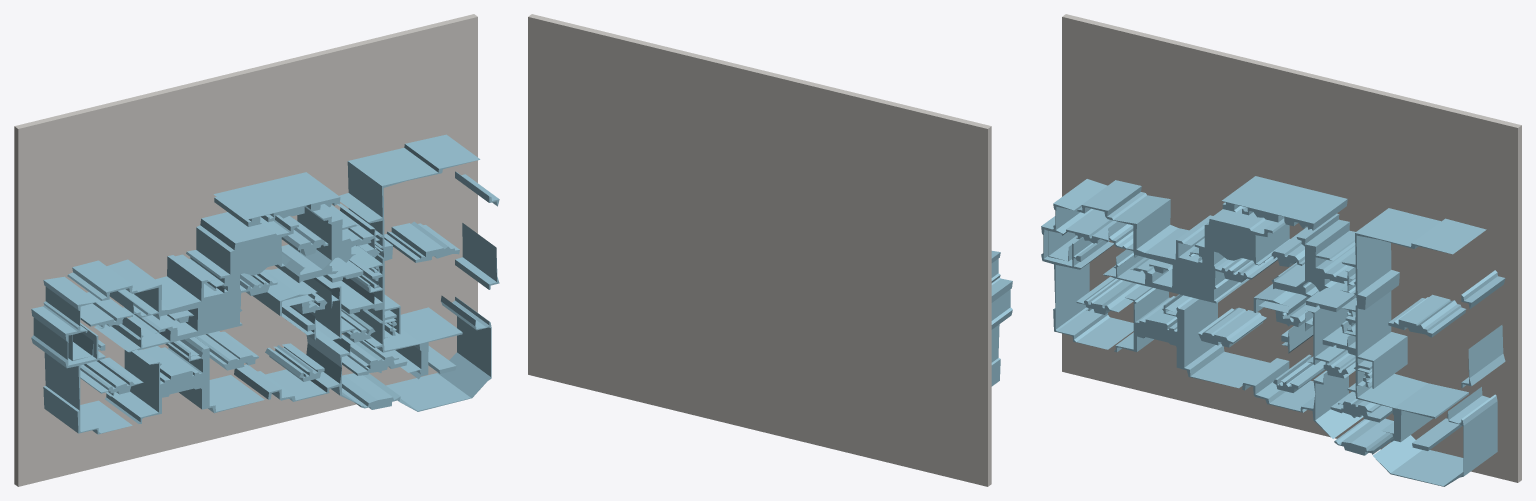
3 views of the same model, side by side, from view 1: azimuth 30°, elevation 25°; view 2: azimuth 150°, elevation 25°; view 3: azimuth 330°, elevation 25° (orthographic).
Parts seen in each view (by area): view 1: world; view 2: world; view 3: world.
Part boxes in pixels (left/top/right/bottom): world: left=14, top=14, right=499, bottom=486; world: left=528, top=14, right=1012, bottom=486; world: left=1041, top=14, right=1521, bottom=486.
Bounding box in the file's own units: 10.23 × 7.61 × 1.47.
